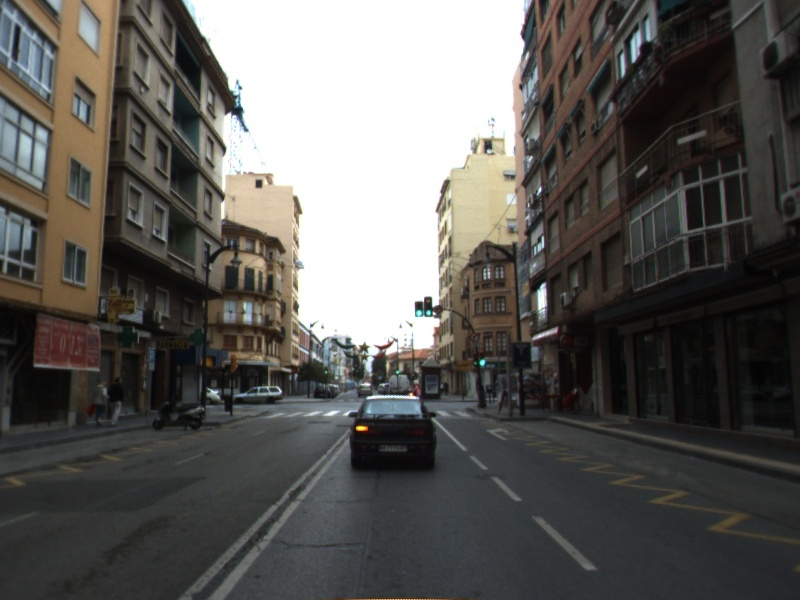RIGHT: (484, 426, 512, 442)
